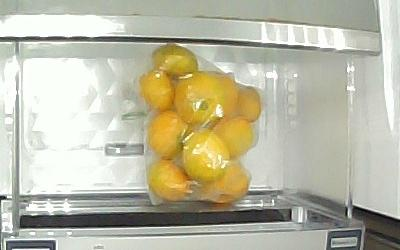tangerine_vinyl: (174, 70, 238, 124), (182, 128, 230, 182), (148, 110, 188, 162), (146, 159, 191, 203), (201, 163, 250, 203), (212, 117, 254, 158), (151, 43, 200, 75), (138, 70, 174, 113), (234, 84, 261, 123)
